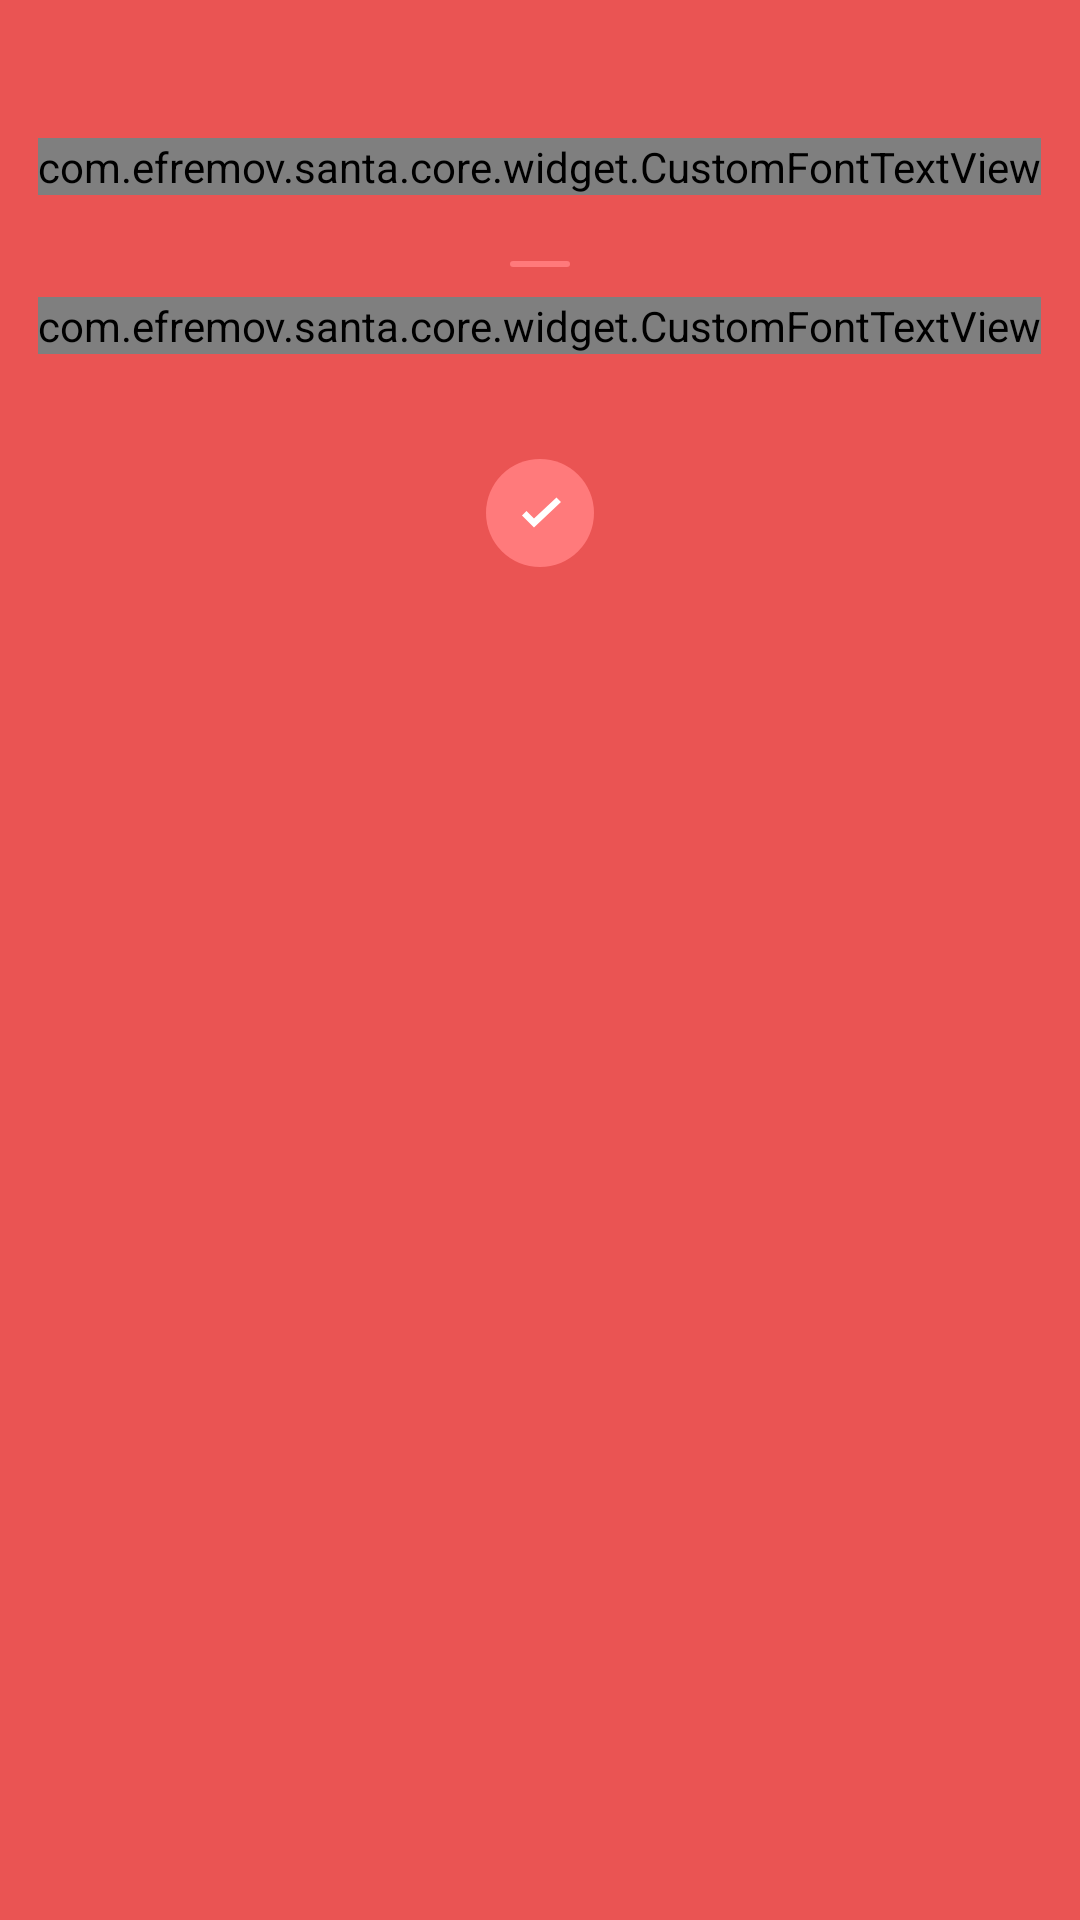

Named icons in this screenshot (1080×1920) and their centers, (x,y):
done: (540,513)
